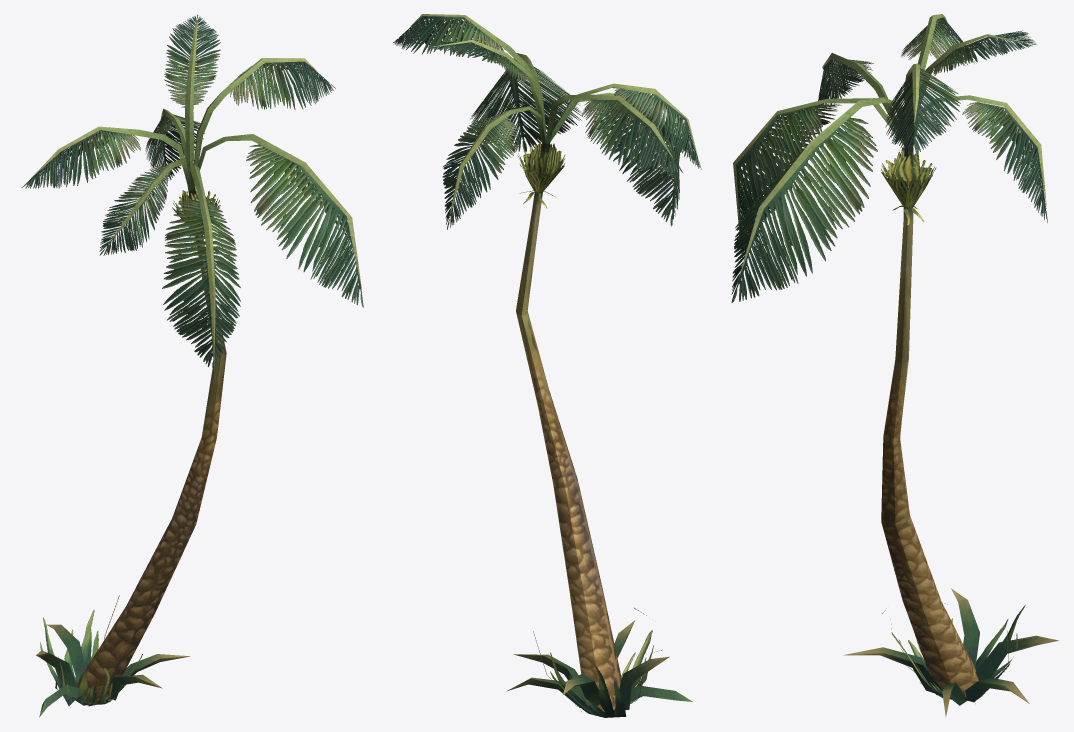
File: 5010_Item_yeshu_03.FBX
3 views of the same model, side by side, from view 1: azimuth 30°, elevation 25°; view 2: azimuth 150°, elevation 25°; view 3: azimuth 270°, elevation 25° (orthographic). The views are drawn at different scales.
Visible parts, largest first — view 1: 5010_Item_yeshu_03; view 2: 5010_Item_yeshu_03; view 3: 5010_Item_yeshu_03.
Boxes of the visible parts, x1,y1,x2,y2 form: 5010_Item_yeshu_03: (21, 14, 363, 717); 5010_Item_yeshu_03: (393, 14, 701, 717); 5010_Item_yeshu_03: (731, 14, 1058, 716).
Size of the model in its own units: 305 by 615 by 251.
